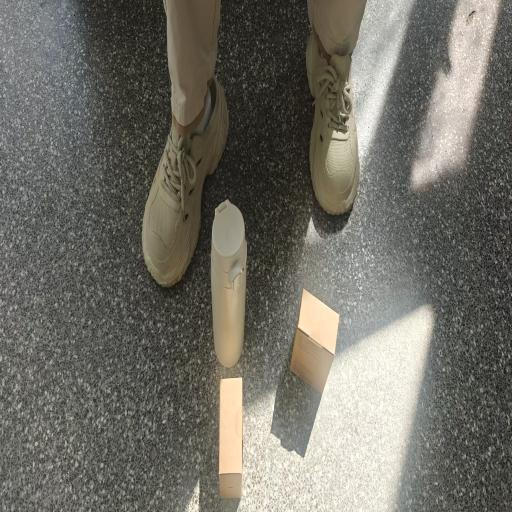bottle: (210, 200, 247, 367)
box: (290, 289, 339, 392), (218, 376, 243, 499)
